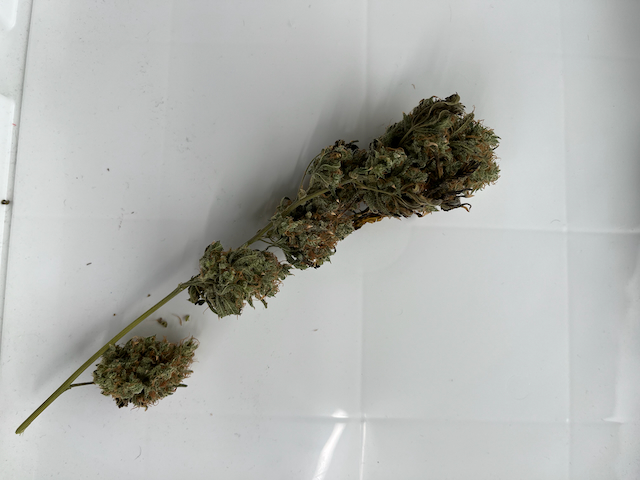Bud: (385, 95, 499, 207), (305, 141, 399, 235), (187, 241, 290, 316), (95, 336, 193, 407), (268, 207, 338, 271)
Leaf: (414, 99, 445, 131)
Leaf-Attachment: (391, 118, 419, 150), (384, 177, 405, 214)
Stem: (13, 354, 94, 433), (111, 279, 186, 336), (292, 187, 334, 204), (349, 183, 394, 196), (245, 226, 268, 249)
